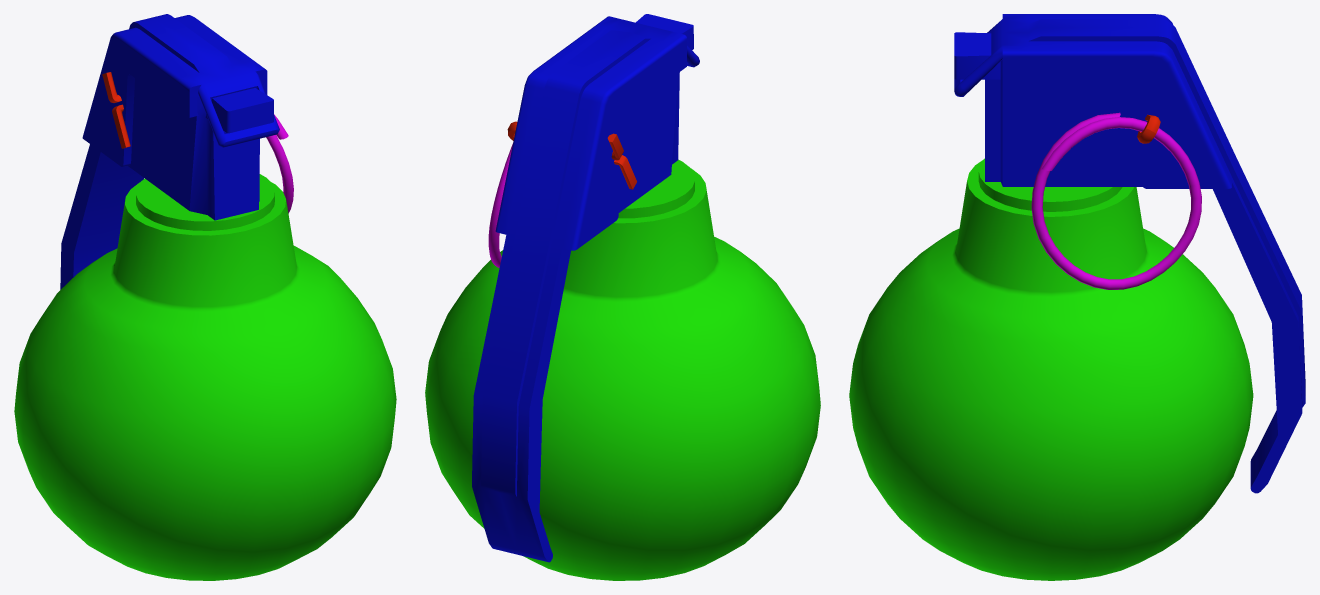
File: grenadeMesh.fbx
3 views of the same model, side by side, from view 1: azimuth 30°, elevation 25°; view 2: azimuth 150°, elevation 25°; view 3: azimuth 270°, elevation 25° (orthographic). The views are drawn at different scales.
Visible parts, largest first — view 1: GrenadeComplete; view 2: GrenadeComplete; view 3: GrenadeComplete.
Part boxes in pixels (x1,y1,x2,y2): GrenadeComplete: [14, 14, 396, 580]; GrenadeComplete: [425, 14, 820, 580]; GrenadeComplete: [849, 14, 1305, 580].
Bounding box in the file's own units: 9.36 × 13.5 × 10.57.
